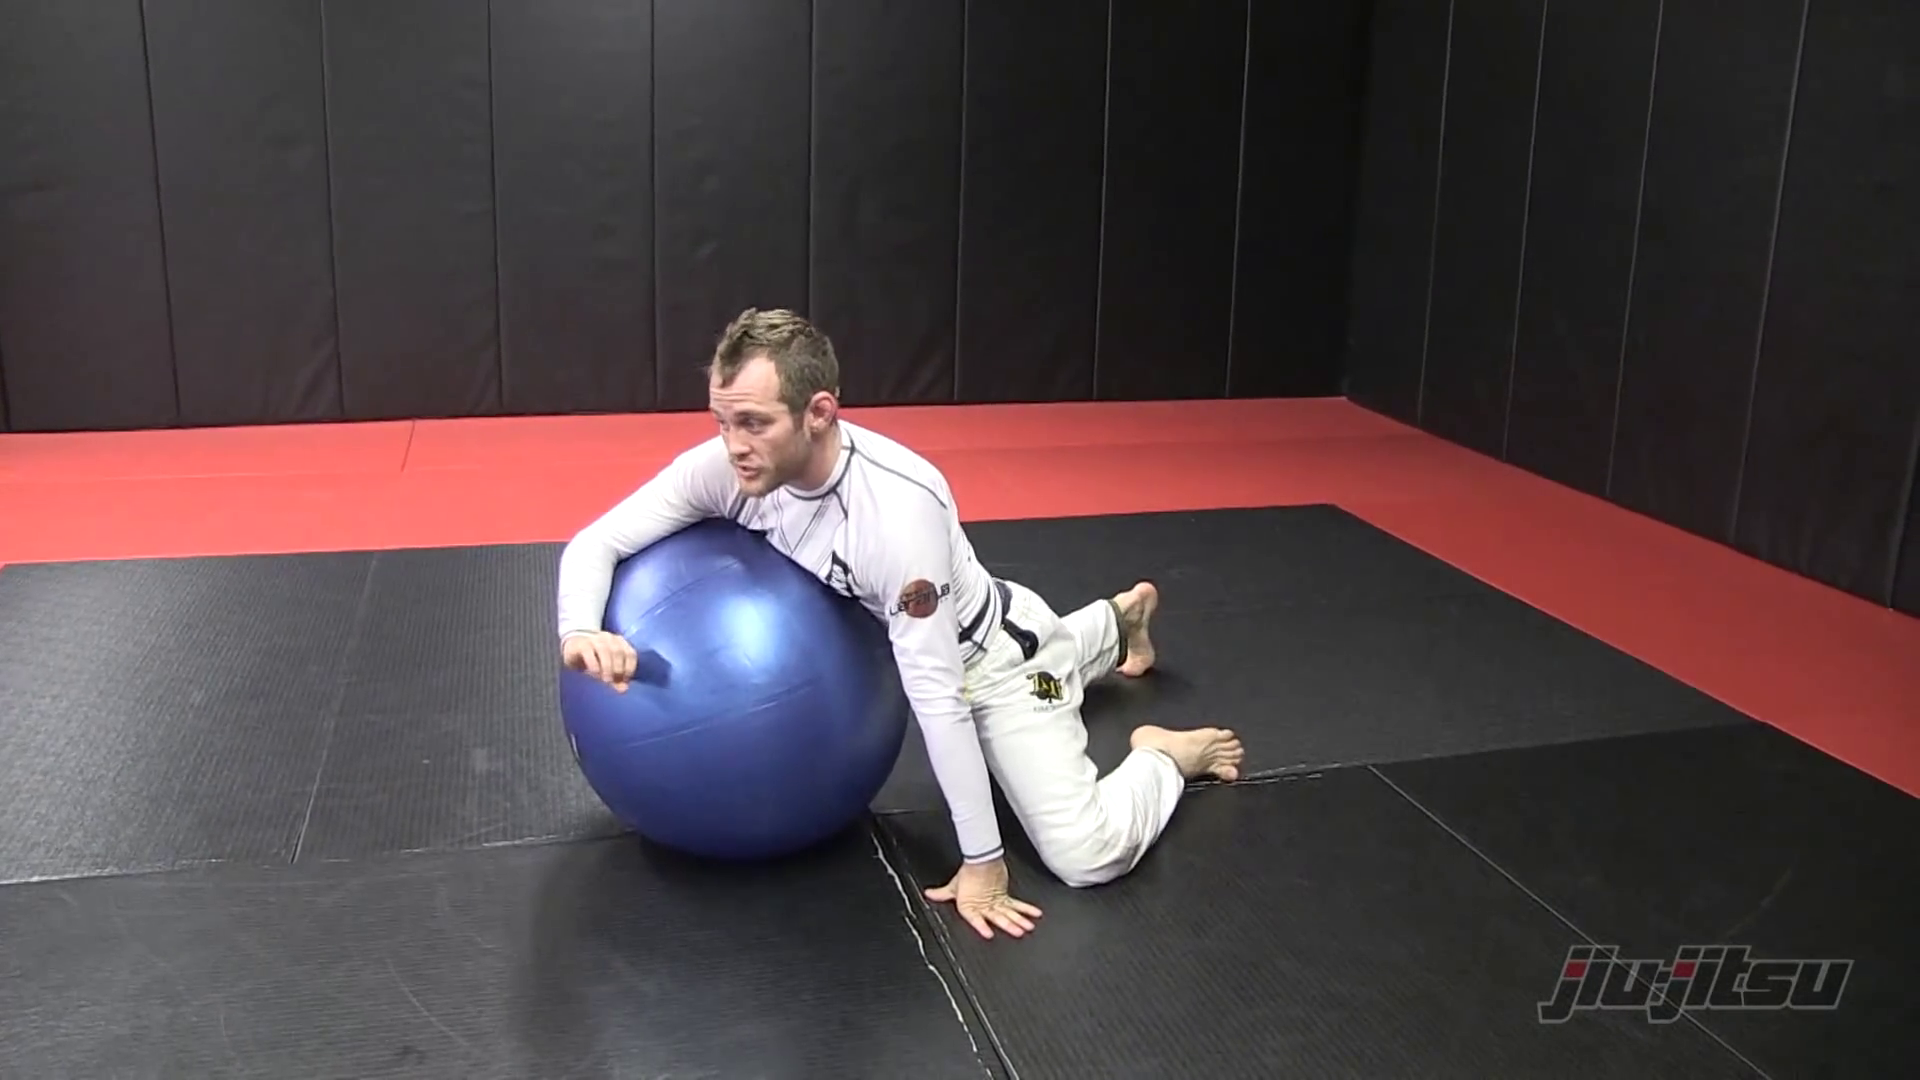yogaball: (530, 514, 924, 884)
